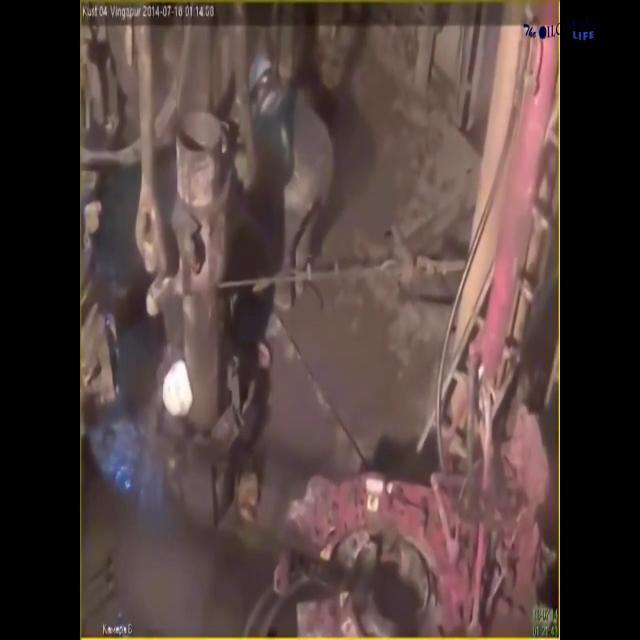spillage: (290, 122, 436, 450)
